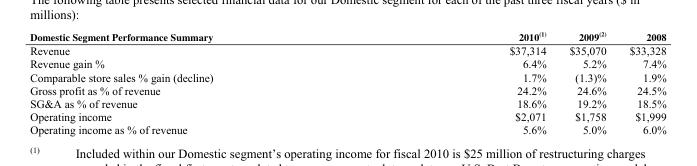table: (29, 28, 665, 135)
table column: (29, 28, 360, 135), (360, 28, 557, 135), (557, 28, 617, 135), (617, 28, 665, 135)
table column header: (29, 28, 665, 43)
table row: (29, 28, 665, 43), (29, 43, 665, 57), (29, 57, 665, 70), (29, 70, 665, 83), (29, 83, 665, 96), (29, 96, 665, 109), (29, 109, 665, 122), (29, 122, 665, 135)
